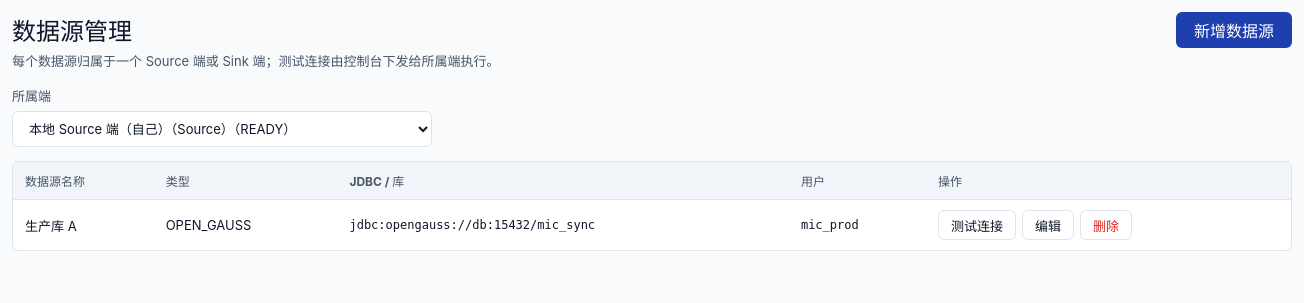
Scenario: DataSourceView › 默认选中本地 Source 端并展示数据源，测试连接下发到所属端
The image size is (1304, 303).
Expected: the dropdown with test id "endpoint-select" shows "本地 Source 端（自己）（Source）（READY）", left=12, top=111, right=432, bottom=147
Click the button "测试连接" at coordinates (977, 225), box left=938, top=210, right=1016, bottom=240
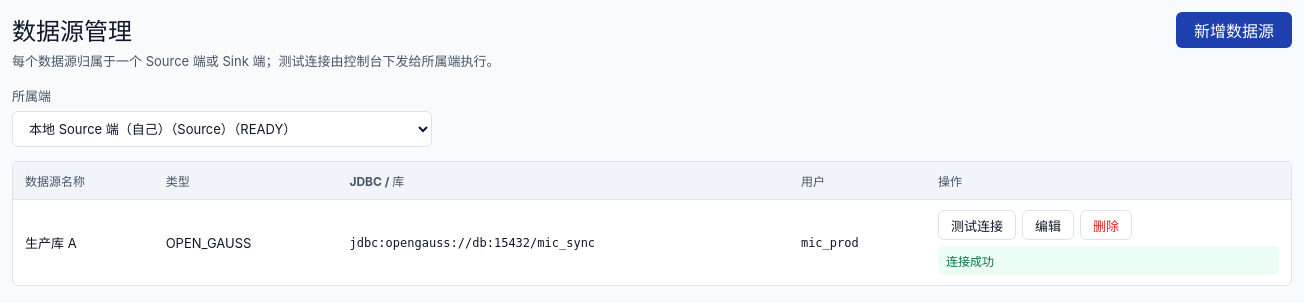
Expected: the text "连接成功" is shown, left=938, top=246, right=1279, bottom=275
